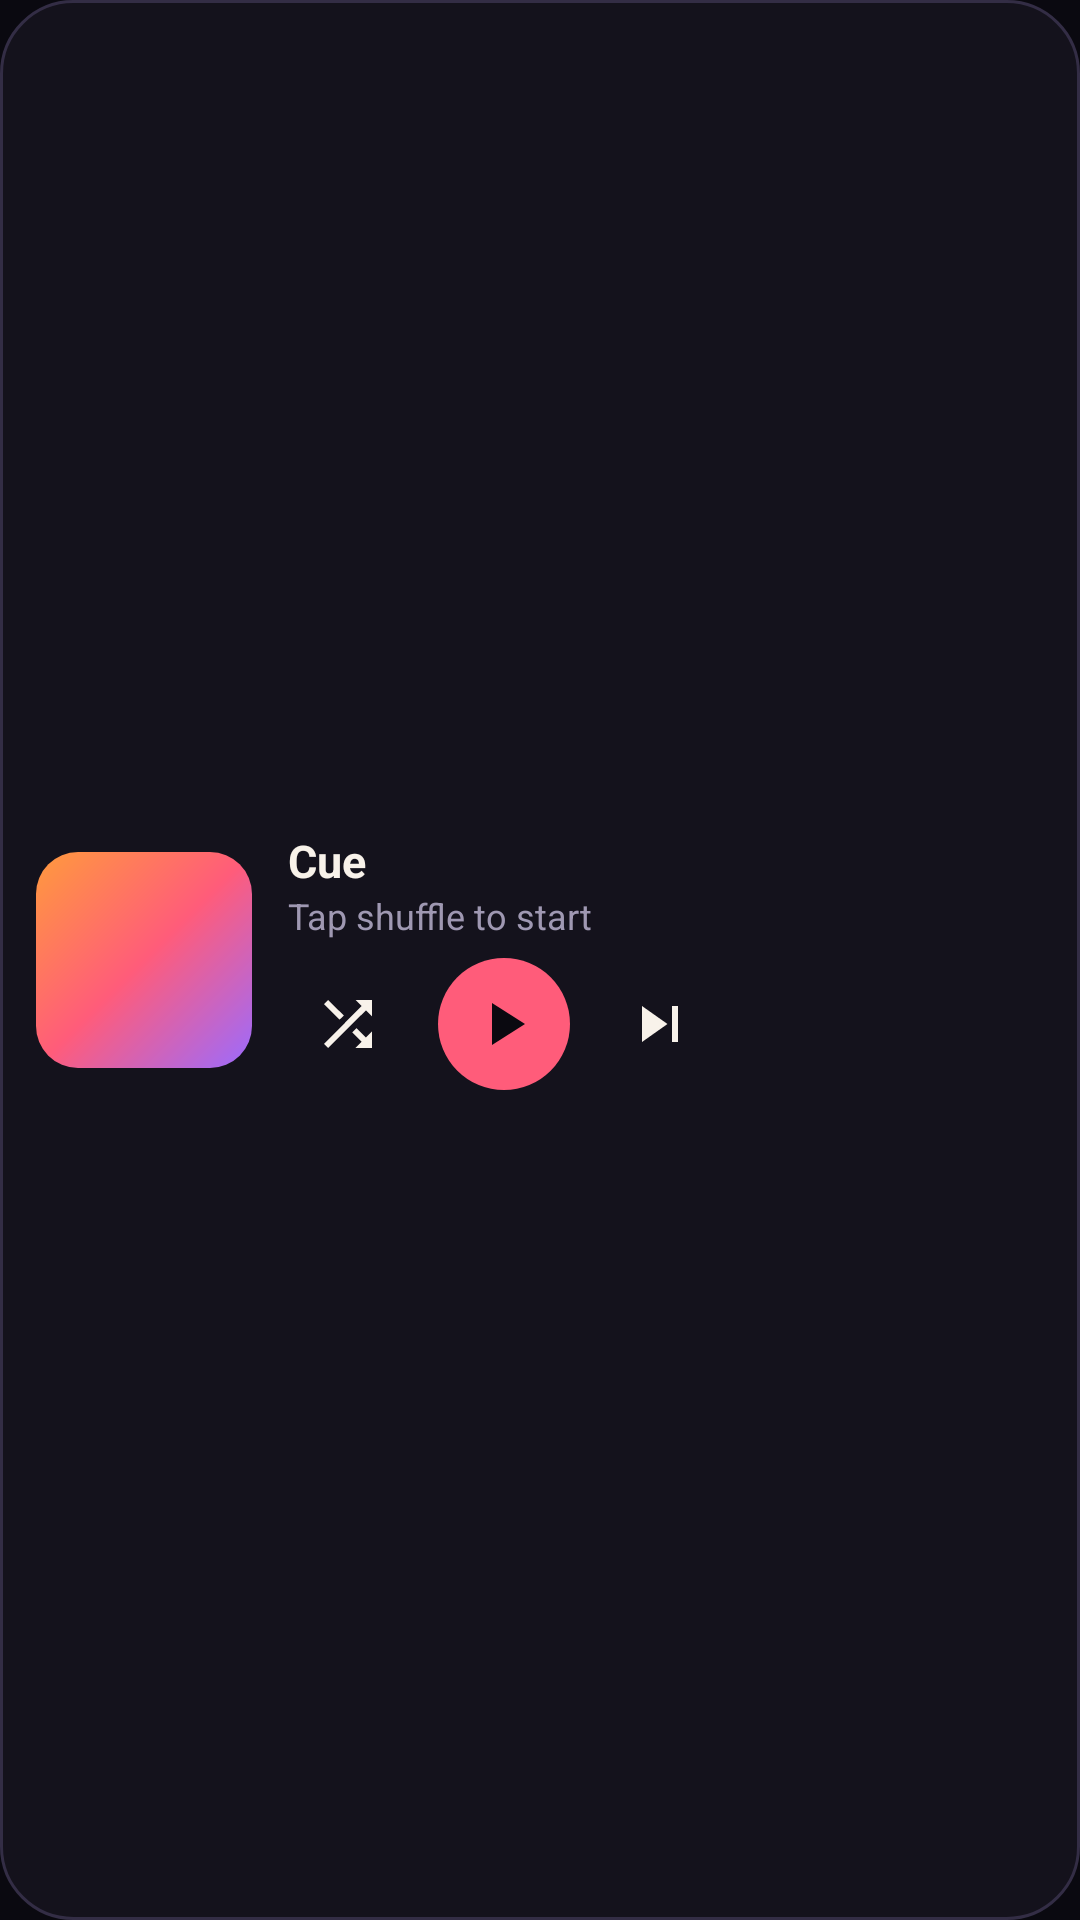

Locate icon controls on the screen. Image size 1080px×1920px, boxes as (x1, y1, x2, y2).
Next: (642, 1006, 678, 1042)
Play or pause: (438, 958, 570, 1090)
